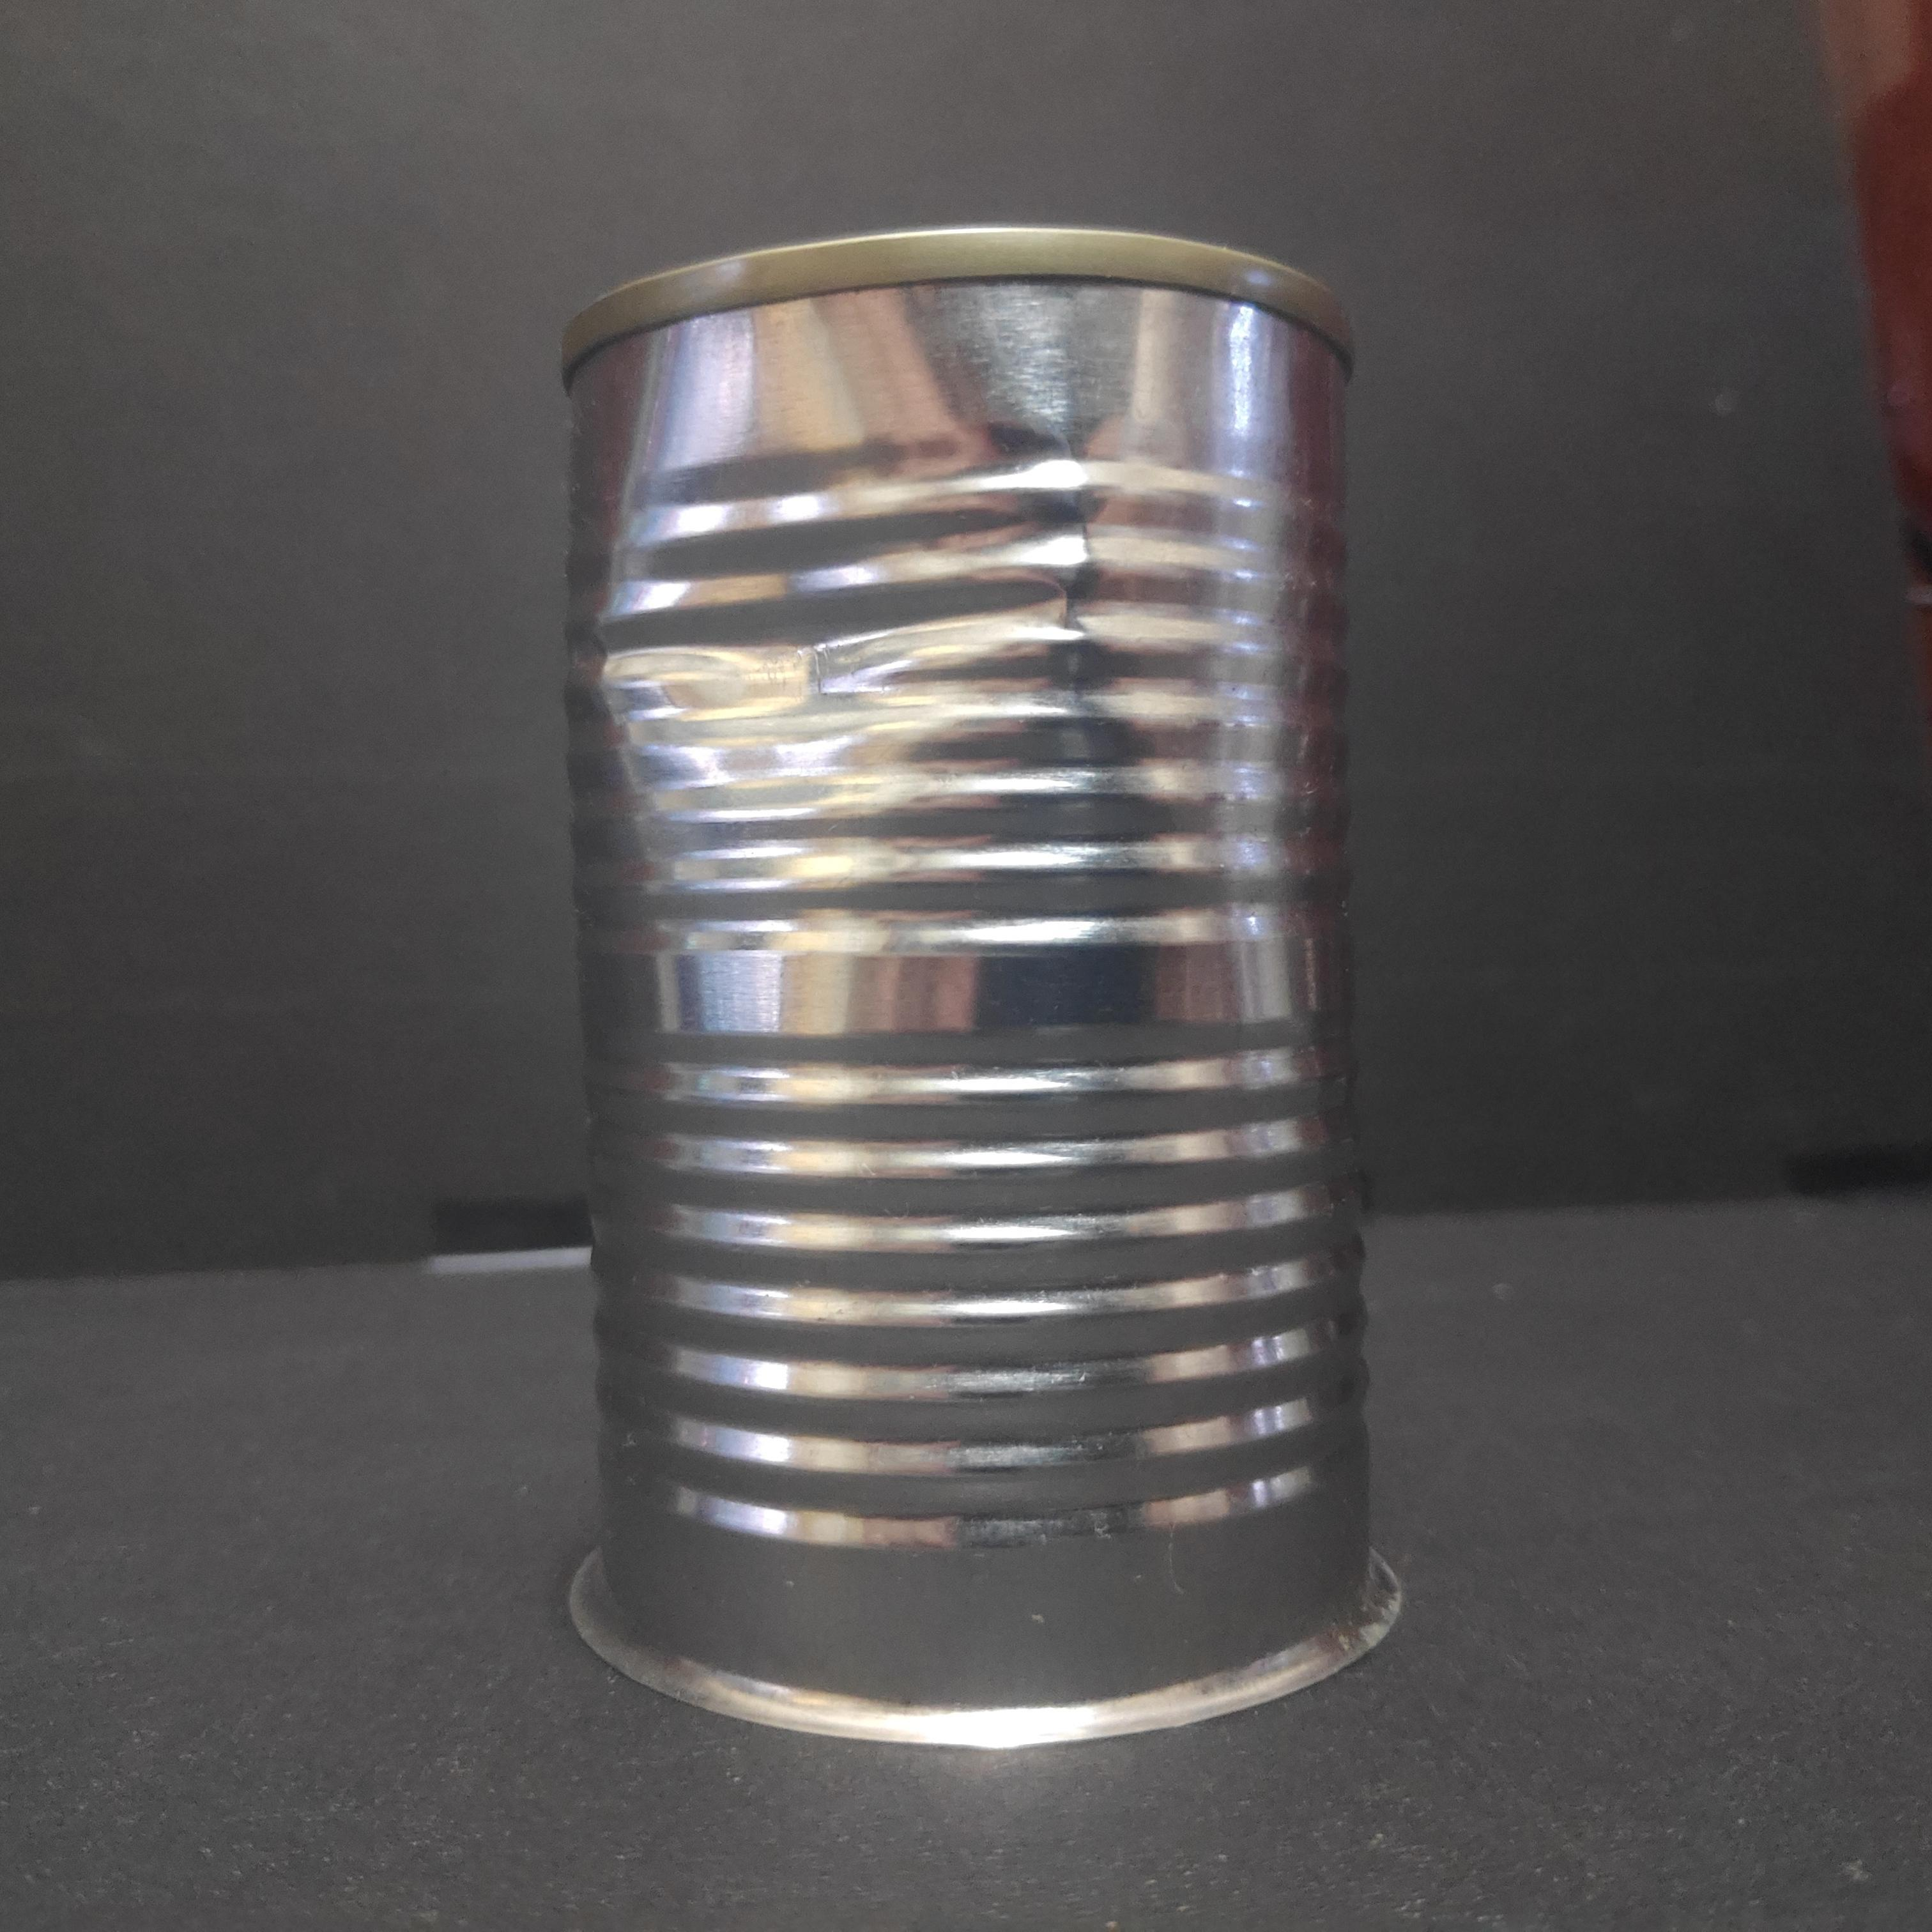Dented: (537, 195, 1434, 1763)
